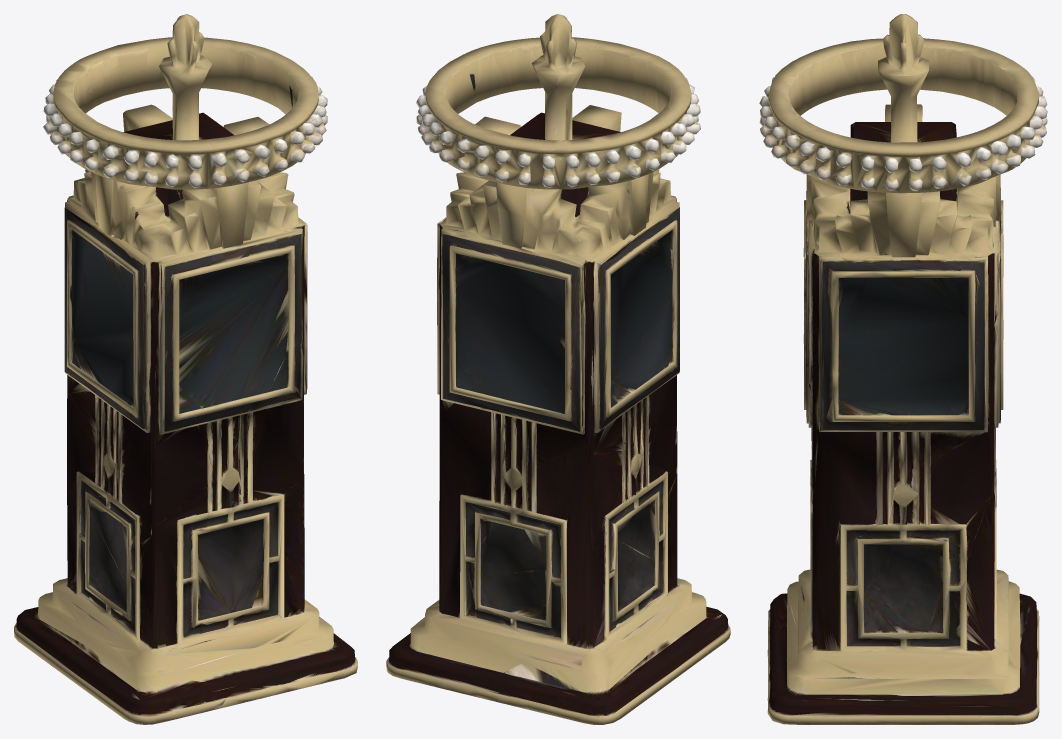
Rendered from jackpot.glb.
The picture shows the model from 3 angles, left to right: view 1: azimuth 30°, elevation 25°; view 2: azimuth 150°, elevation 25°; view 3: azimuth 270°, elevation 25°; orthographic projection. The views are drawn at different scales.
Visible parts, largest first — view 1: Mesh_0; view 2: Mesh_0; view 3: Mesh_0.
Part boxes in pixels (x1,y1,x2,y2): Mesh_0: (14,14,357,724); Mesh_0: (386,14,730,724); Mesh_0: (759,14,1047,724).
Size of the model in its own units: 1.24 by 3.1 by 1.24.
Materials: 1 (1 with a texture image).
